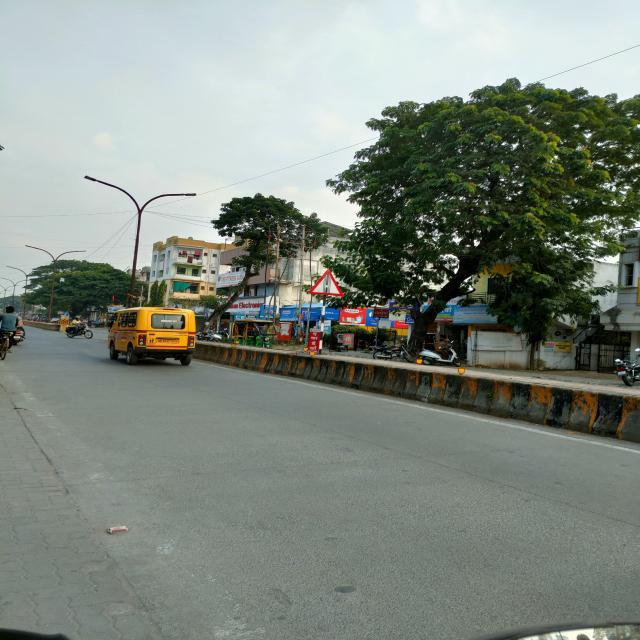gap in median: (310, 270, 345, 297)
